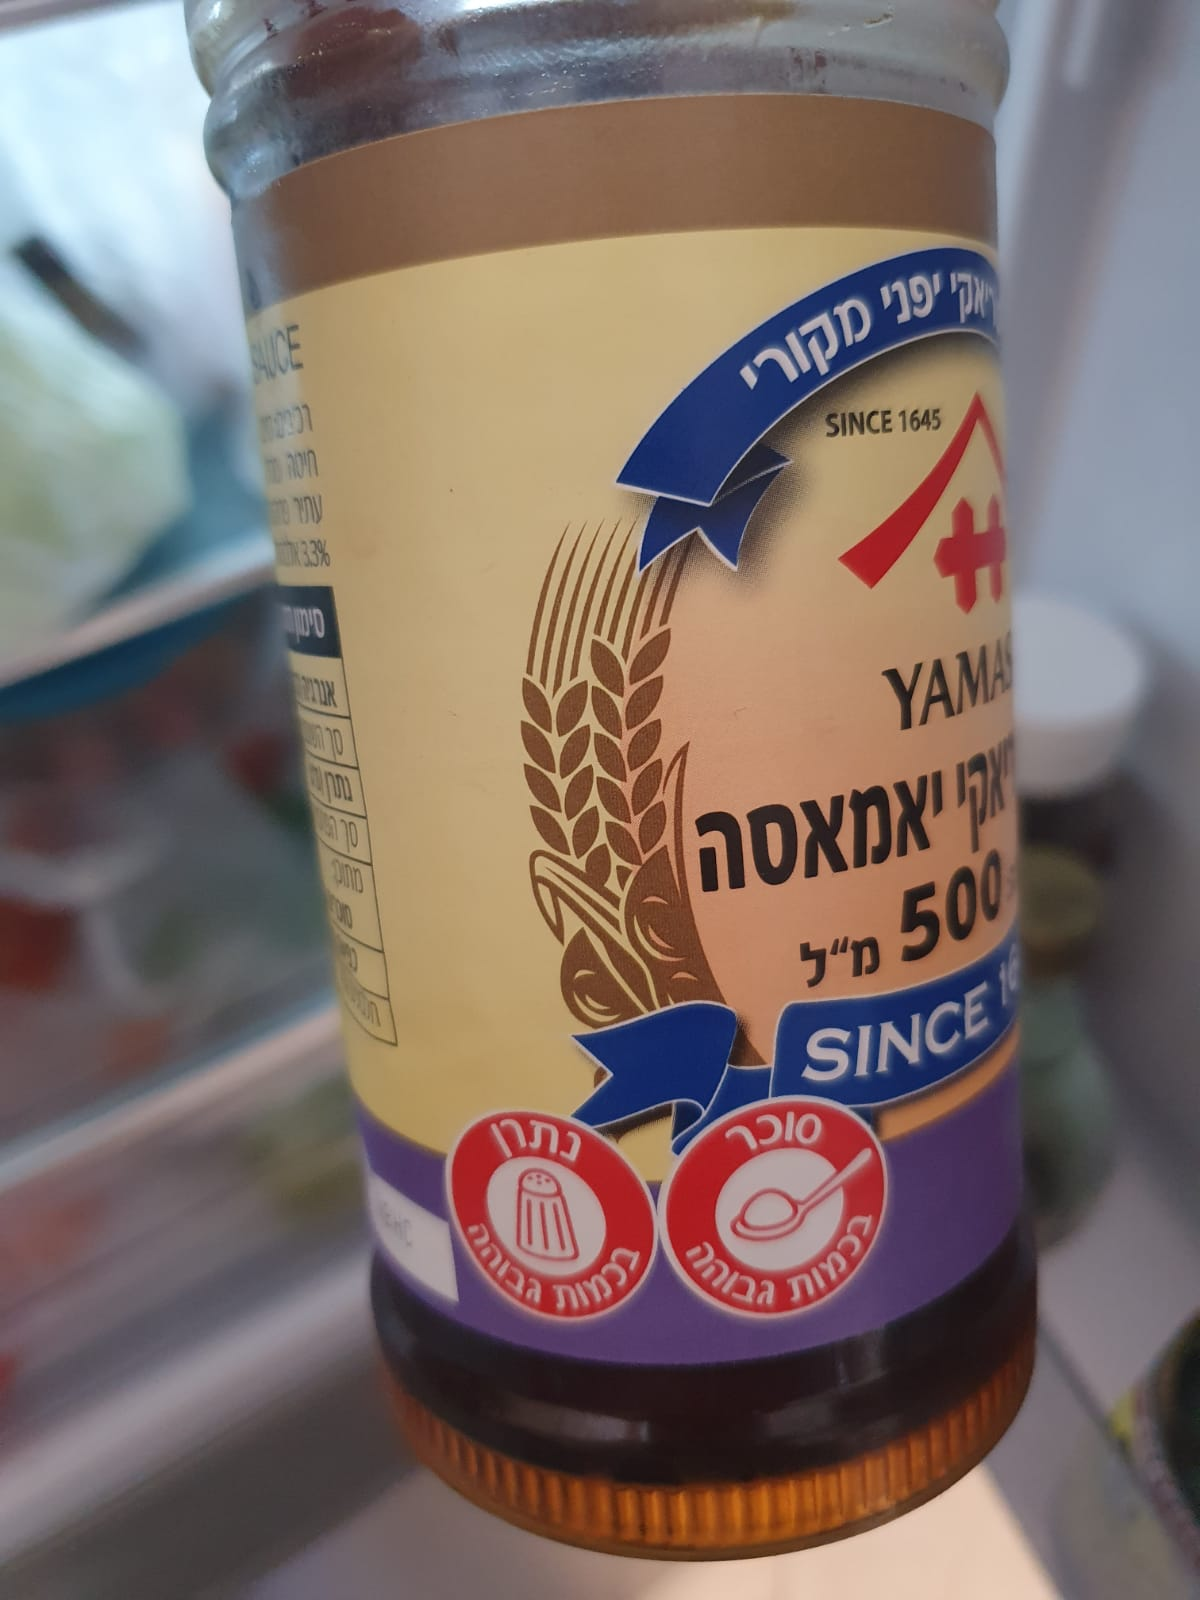salt: (442, 1107, 657, 1327)
sugar: (655, 1096, 891, 1323)
